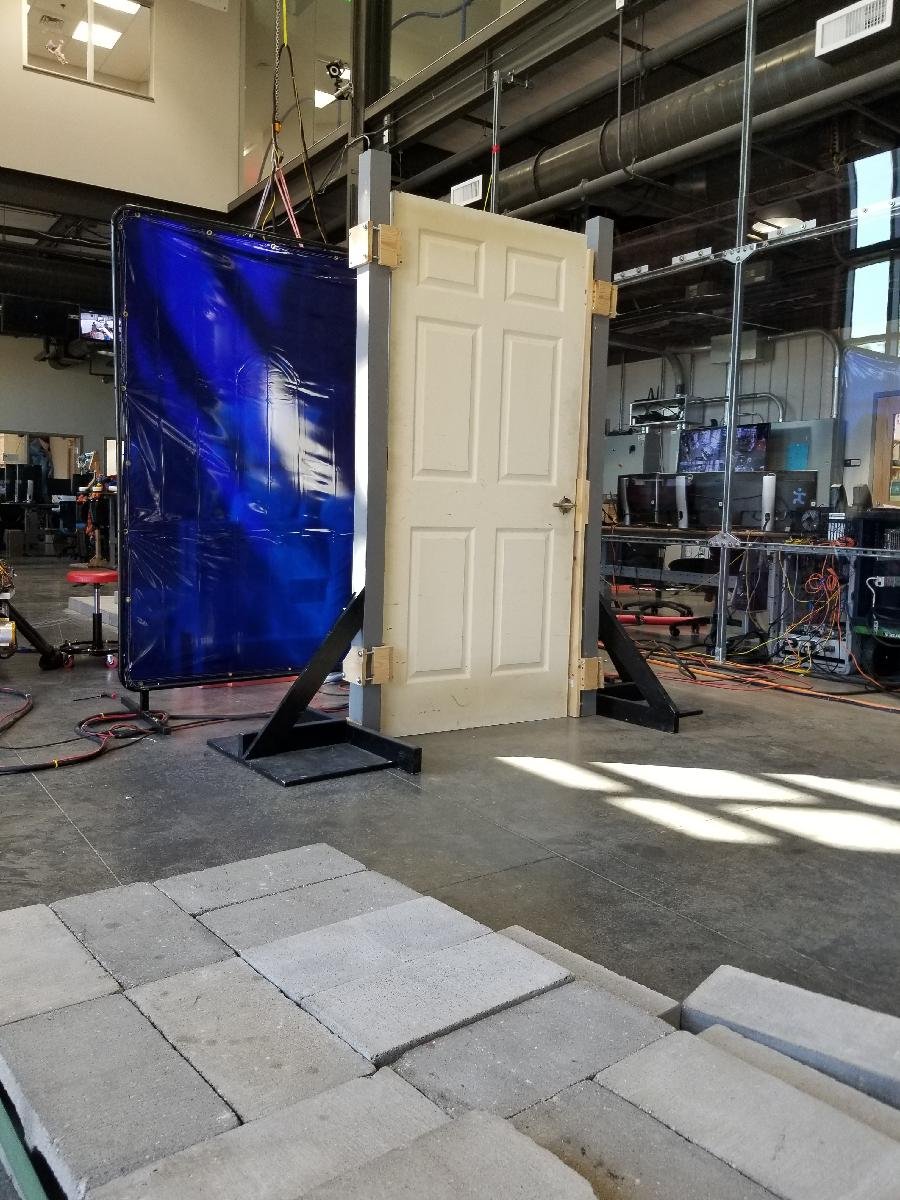door: (377, 186, 592, 746)
doorHandle: (547, 496, 578, 515)
